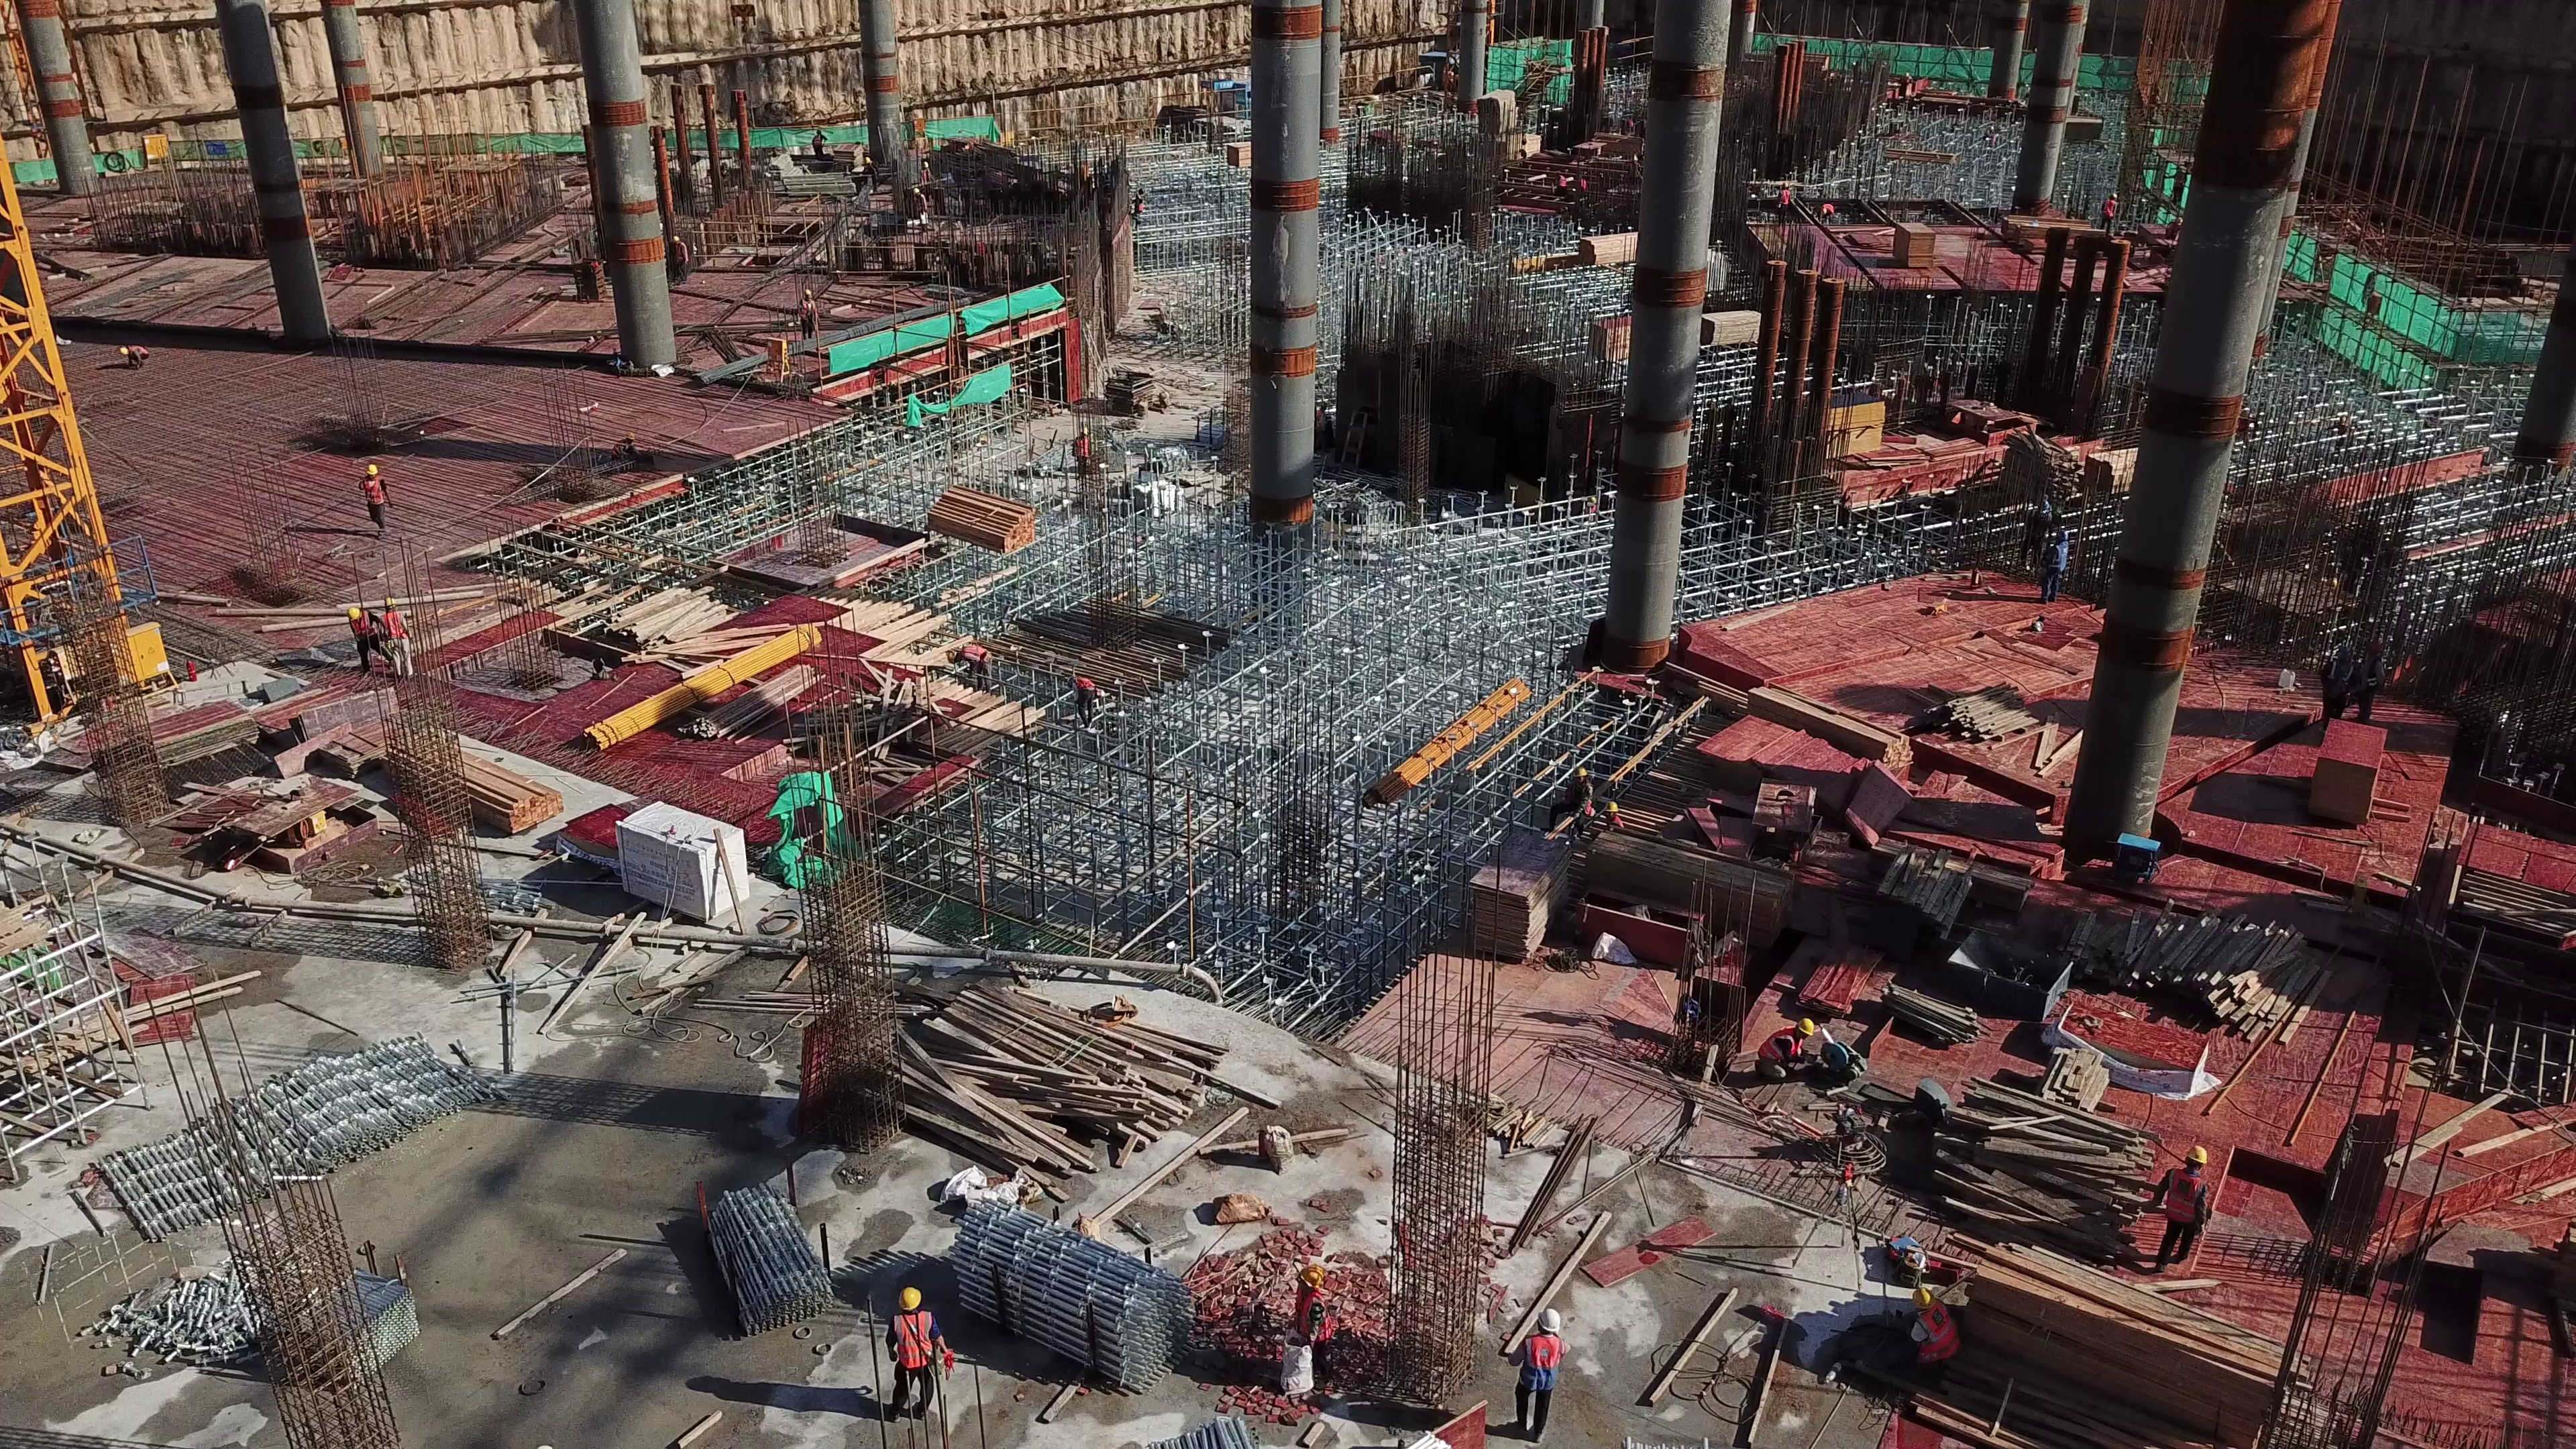board: (1469, 830, 1577, 959), (131, 687, 250, 778), (2300, 727, 2392, 823), (1582, 307, 1620, 374), (1890, 215, 1933, 272)
cutter: (1816, 1029, 1866, 1090)
ebox: (85, 623, 172, 704)
helmet: (896, 1284, 926, 1316), (1531, 1307, 1559, 1336), (1908, 1286, 1933, 1306), (1300, 1265, 1322, 1288), (2184, 1141, 2203, 1163), (1792, 1018, 1813, 1033), (363, 464, 380, 478), (345, 607, 362, 619)
person: (871, 1285, 957, 1421), (2143, 1142, 2208, 1277), (1511, 1311, 1572, 1440), (1284, 1263, 1337, 1402), (1898, 1285, 1954, 1371), (1754, 1017, 1813, 1086), (377, 598, 415, 689), (2353, 642, 2390, 730), (1546, 771, 1592, 837), (2321, 641, 2354, 731), (345, 604, 385, 672), (358, 466, 394, 536), (945, 643, 994, 694), (2039, 530, 2069, 602), (1062, 670, 1095, 727), (1596, 798, 1636, 843), (795, 290, 816, 345), (670, 233, 689, 288), (118, 342, 150, 369), (912, 185, 927, 226), (810, 127, 826, 158)
scaffold: (48, 1032, 497, 1232), (917, 1189, 1185, 1381), (119, 1254, 408, 1360), (692, 1185, 829, 1342)
vest: (883, 1310, 934, 1373), (2159, 1171, 2200, 1239), (1521, 1333, 1564, 1396), (1917, 1299, 1951, 1367), (1296, 1291, 1331, 1336), (1753, 1028, 1800, 1059), (2043, 543, 2069, 578), (362, 480, 384, 505)
wood: (1951, 1248, 2303, 1449), (895, 989, 1191, 1171), (2032, 907, 2328, 1045), (1918, 1089, 2164, 1246), (370, 734, 563, 849), (1920, 687, 2071, 771), (1868, 845, 1984, 945), (595, 600, 739, 661), (928, 482, 1026, 555), (2003, 215, 2101, 250), (2076, 451, 2136, 498), (1576, 228, 1636, 265)
